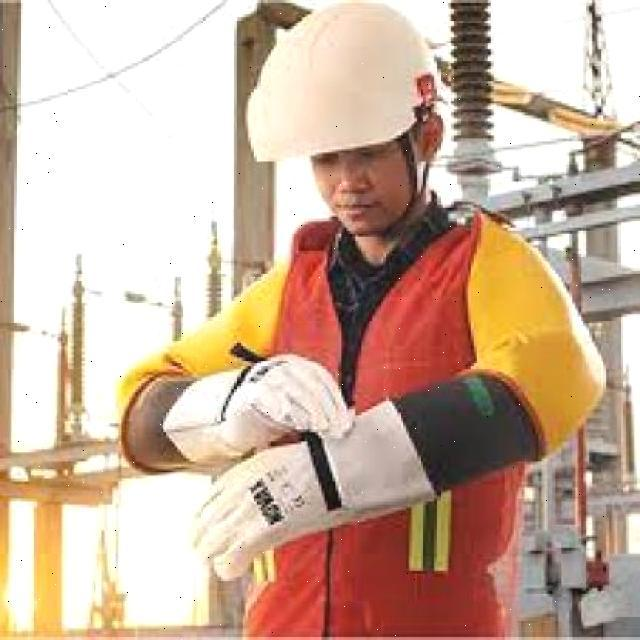Gloves: (172, 447, 345, 577), (161, 352, 353, 469)
Helmet: (244, 0, 439, 163)
Person: (115, 1, 607, 638)
Safety Vest: (282, 252, 512, 637)
